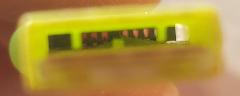electronic: (8, 4, 224, 94)
